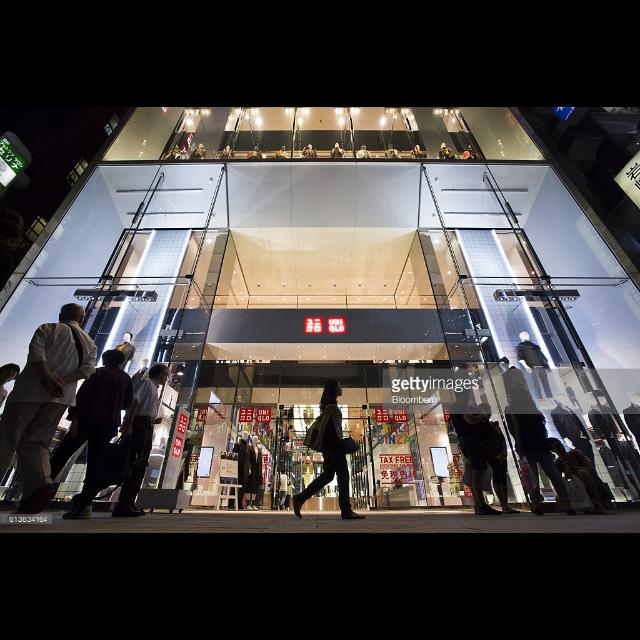head: (58, 303, 86, 331), (148, 365, 170, 387), (104, 351, 126, 372), (546, 438, 568, 458), (1, 363, 22, 383), (326, 380, 344, 400), (454, 386, 472, 406), (284, 475, 292, 513), (508, 388, 524, 406), (477, 403, 493, 421), (282, 470, 286, 476), (394, 480, 398, 486), (377, 481, 381, 485)
person: (0, 302, 101, 528), (8, 348, 136, 524), (66, 360, 174, 522), (291, 378, 367, 522), (503, 385, 583, 519), (448, 387, 507, 518), (470, 400, 524, 516), (544, 434, 620, 516), (1, 360, 40, 510), (277, 469, 289, 513), (392, 479, 404, 507), (284, 475, 292, 513), (374, 479, 384, 509)
